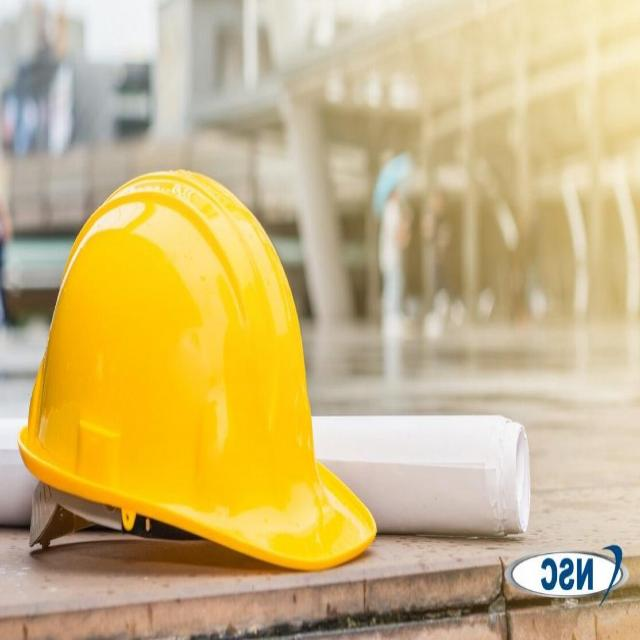Safety-Helmet: (10, 164, 380, 572)
